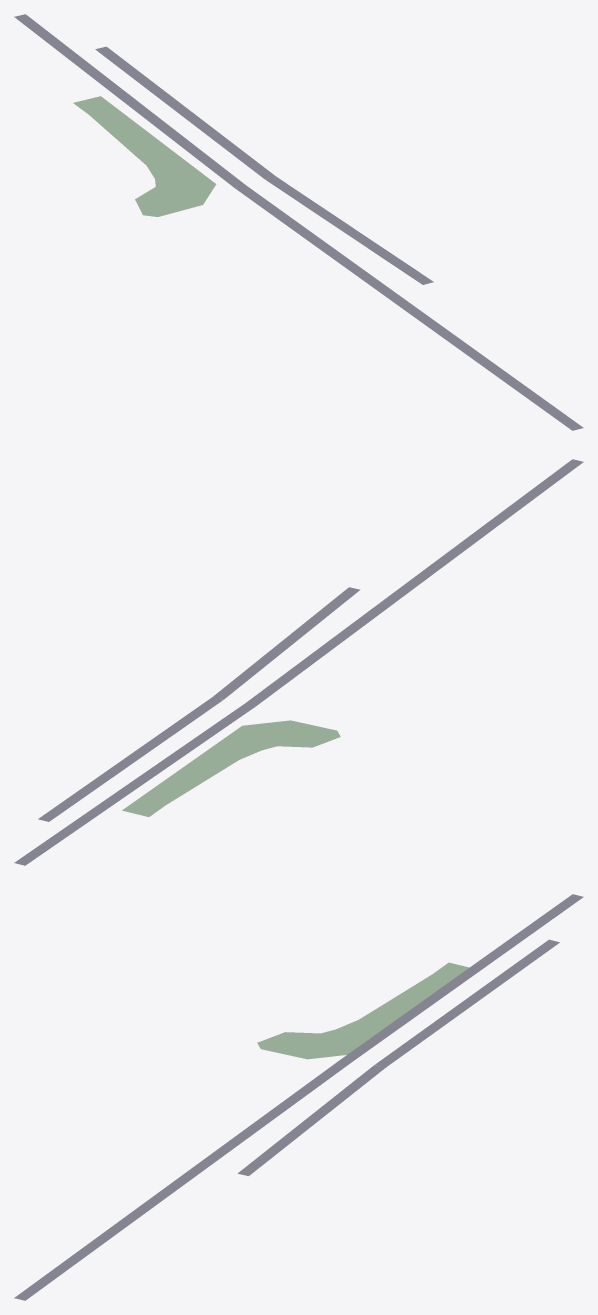
Rendered from 128_68_mid.glb.
3 renders of one model, top to bottom at view 1: azimuth 30°, elevation 25°; view 2: azimuth 150°, elevation 25°; view 3: azimuth 330°, elevation 25°, orthographic.
Size of the model in its own units: 129 by 8.77 by 889.
